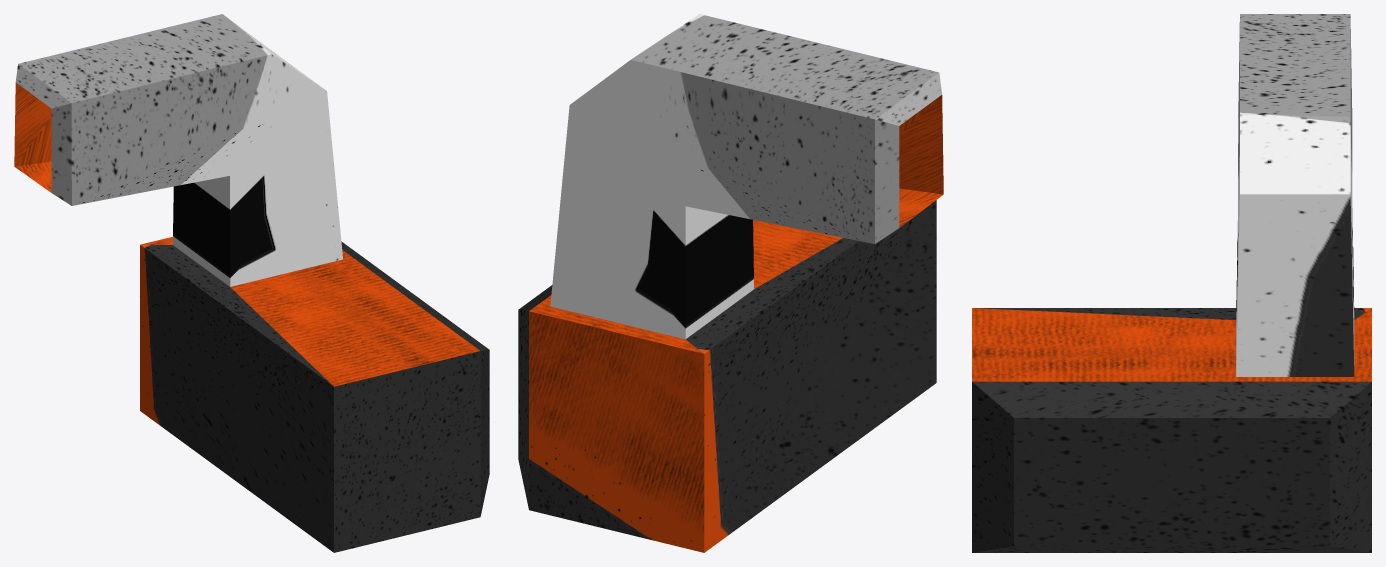
The model's file is blaster0.fbx.
The picture shows the model from 3 angles, left to right: view 1: azimuth 30°, elevation 25°; view 2: azimuth 150°, elevation 25°; view 3: azimuth 270°, elevation 25°; orthographic projection. The views are drawn at different scales.
Visible parts, largest first — view 1: Blaster; view 2: Blaster; view 3: Blaster.
Part boxes in pixels (bbox=[...]): Blaster: bbox=[14, 14, 489, 552]; Blaster: bbox=[518, 14, 943, 552]; Blaster: bbox=[972, 14, 1371, 552].
Bounding box in the file's own units: 26.78 × 30.93 × 28.11.
